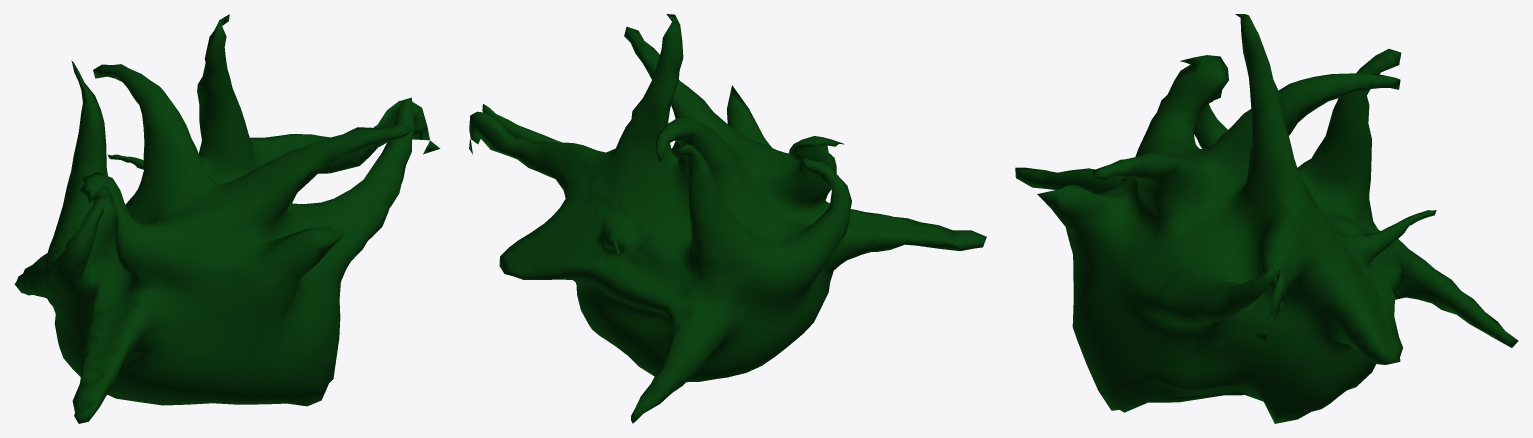
File: jump_cthulhu_008.obj
The picture shows the model from 3 angles, left to right: view 1: azimuth 30°, elevation 25°; view 2: azimuth 150°, elevation 25°; view 3: azimuth 270°, elevation 25°; orthographic projection. The views are drawn at different scales.
Visible parts, largest first — view 1: Cube; view 2: Cube; view 3: Cube.
Boxes of the visible parts, <box> form: Cube: <box>14,14,440,423</box>; Cube: <box>469,14,986,423</box>; Cube: <box>1015,14,1518,423</box>.
Bounding box in the file's own units: 1.27 × 0.9332 × 1.07.
